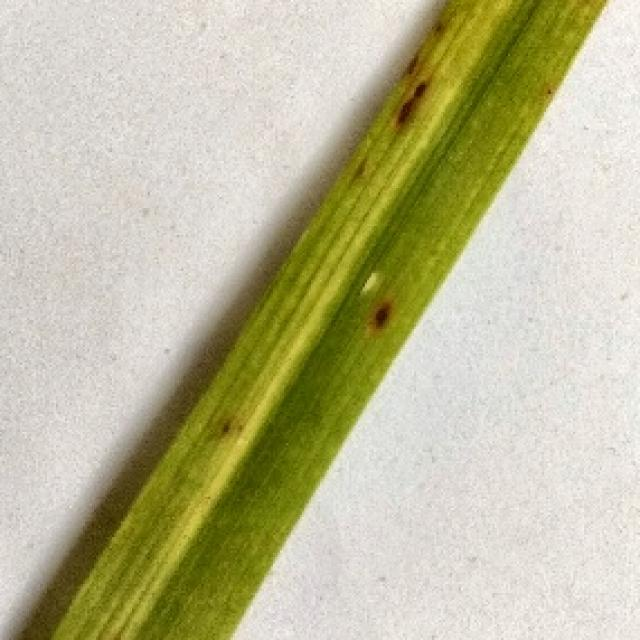Leaf_Blast: (362, 0, 606, 159), (204, 288, 414, 458)
